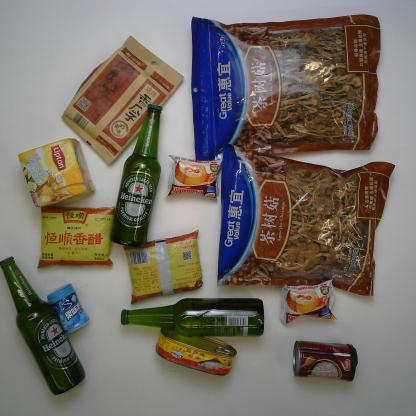Alcohol: (1, 254, 85, 398), (109, 100, 166, 250), (121, 294, 268, 340)
Canned Food: (150, 324, 239, 378), (290, 340, 359, 383)
Dessert: (164, 153, 223, 199), (280, 278, 337, 325)
Dried Food: (190, 11, 382, 161), (217, 141, 397, 298), (60, 34, 187, 168)
Gum: (45, 282, 91, 338)
Instant Drink: (16, 137, 94, 209)
Seasoner: (124, 228, 206, 305), (36, 204, 119, 270)
